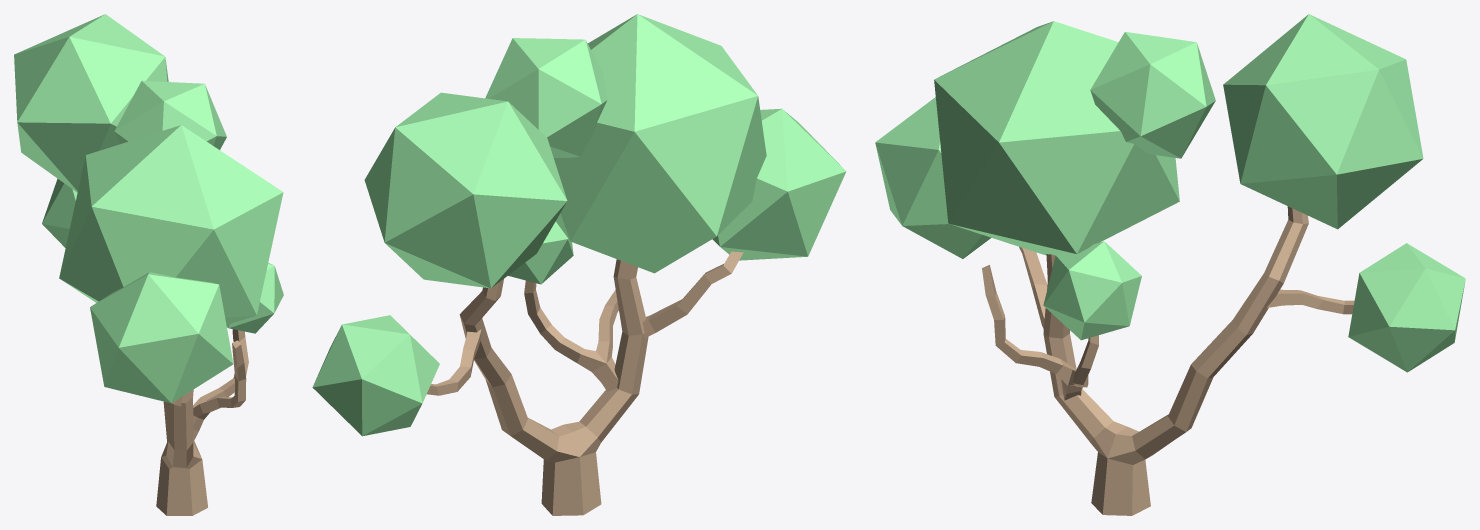
The model's file is arbre1.glb.
The picture shows the model from 3 angles, left to right: view 1: azimuth 30°, elevation 25°; view 2: azimuth 150°, elevation 25°; view 3: azimuth 270°, elevation 25°; orthographic projection. The views are drawn at different scales.
Visible parts, largest first — view 1: arbre2; view 2: arbre2; view 3: arbre2.
Part boxes in pixels (left/top/right/bottom): arbre2: left=14, top=14, right=283, bottom=515; arbre2: left=312, top=14, right=846, bottom=515; arbre2: left=875, top=14, right=1465, bottom=515.
Bounding box in the file's own units: 9.63 × 15.94 × 17.96.
